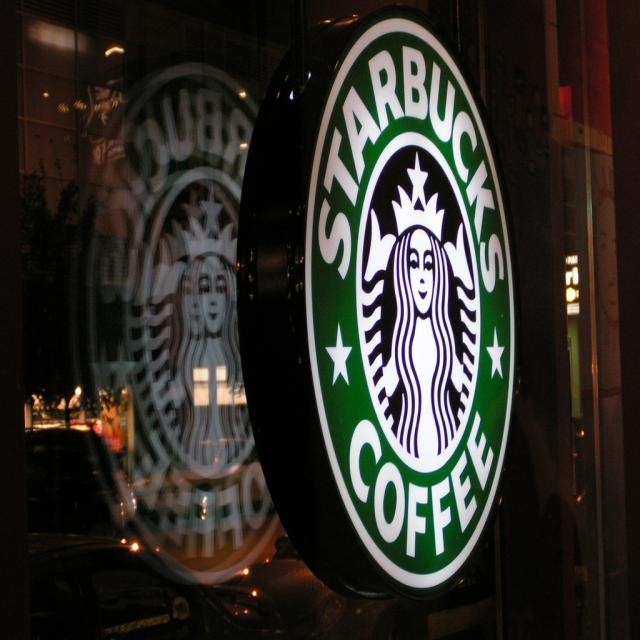starbucks: (305, 19, 516, 593)
